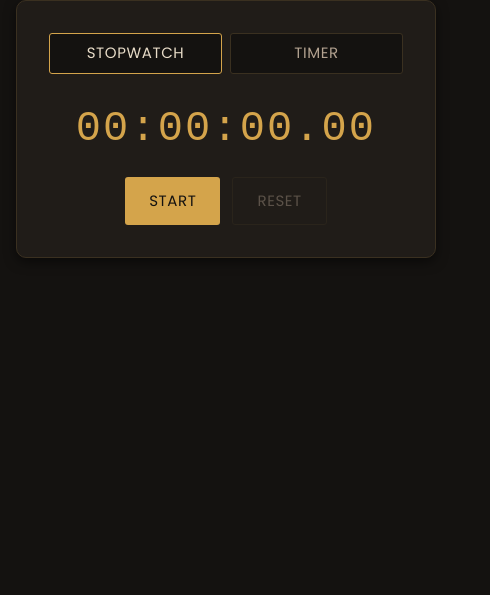
Test: Stopwatch — timer mode › applies a preset and counts down after Start
Click the tab "Timer" at (316, 53), box 230,33 -> 403,74
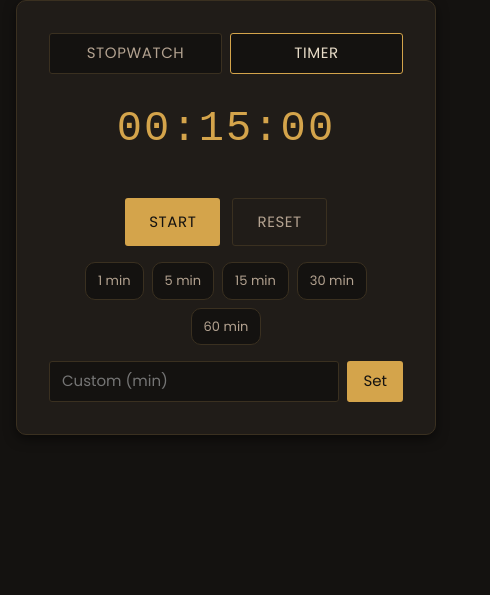
Click the button "1 min" at (114, 281), box 85,262 -> 144,300
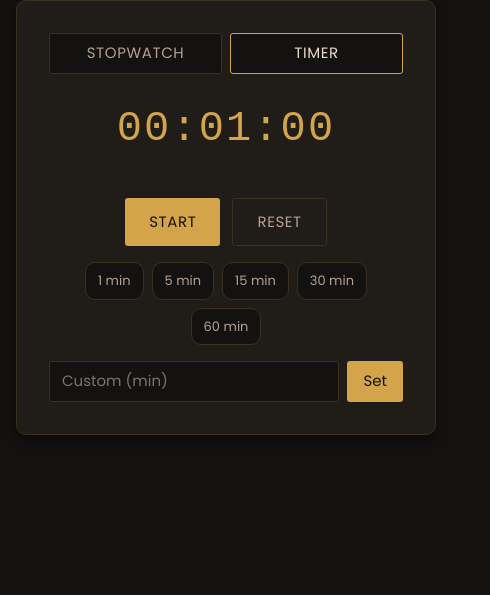
Check: the text with class "stopwatch-display" reads "00:01:00", box 117,104 -> 335,152
Click the button "Start" at (173, 222), box 125,198 -> 220,246
Wait 30000 ms
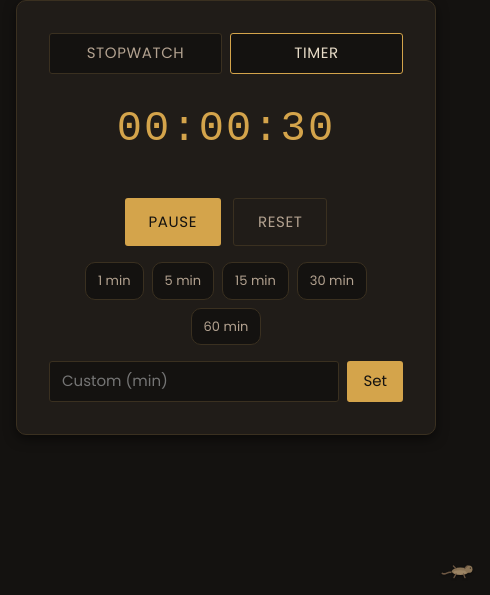
Check: the text with class "stopwatch-display" reads "00:00:30", box 117,104 -> 335,152
